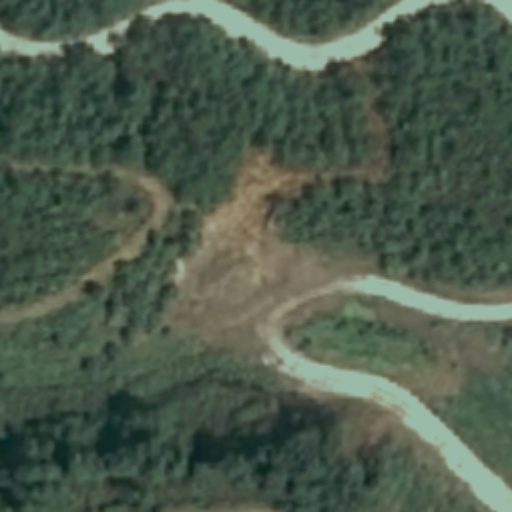landslide: (169, 150, 305, 331)
